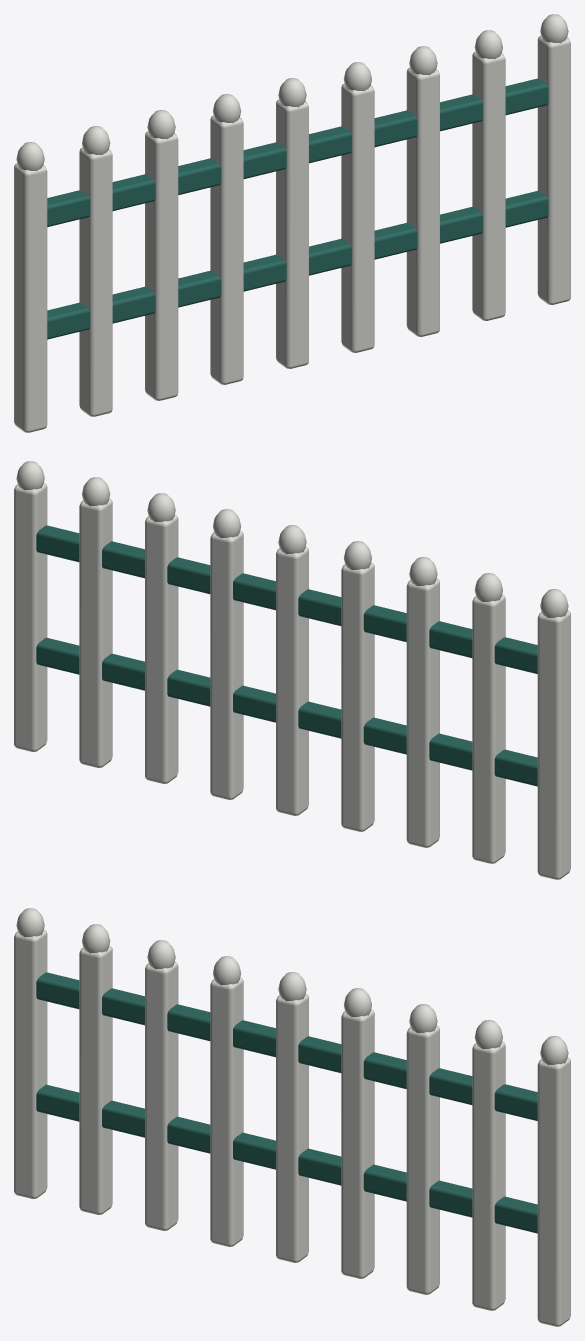
The model's file is christmas-storybook-village-fence-cdf5a1ee__18709.glb.
The picture shows the model from 3 angles, top to bottom: view 1: azimuth 30°, elevation 25°; view 2: azimuth 150°, elevation 25°; view 3: azimuth 330°, elevation 25°; orthographic projection.
Parts seen in each view (by area): view 1: cream, pine; view 2: cream, pine; view 3: cream, pine.
Boxes of the visible parts, <box> form: cream: <box>14,14,570,432</box>; pine: <box>47,78,548,339</box>; cream: <box>14,461,570,879</box>; pine: <box>36,525,537,786</box>; cream: <box>14,908,570,1326</box>; pine: <box>36,972,537,1233</box>.
Bounding box in the file's own units: 2.09 × 1.04 × 0.0941.
